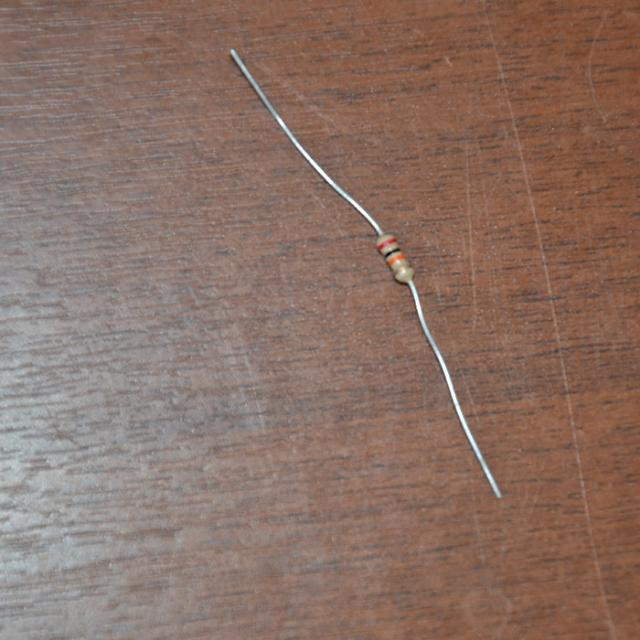black: (384, 247, 400, 258)
gold: (393, 264, 411, 275)
orange: (389, 254, 404, 266)
red: (377, 238, 397, 251)
resistor: (372, 232, 421, 285)
